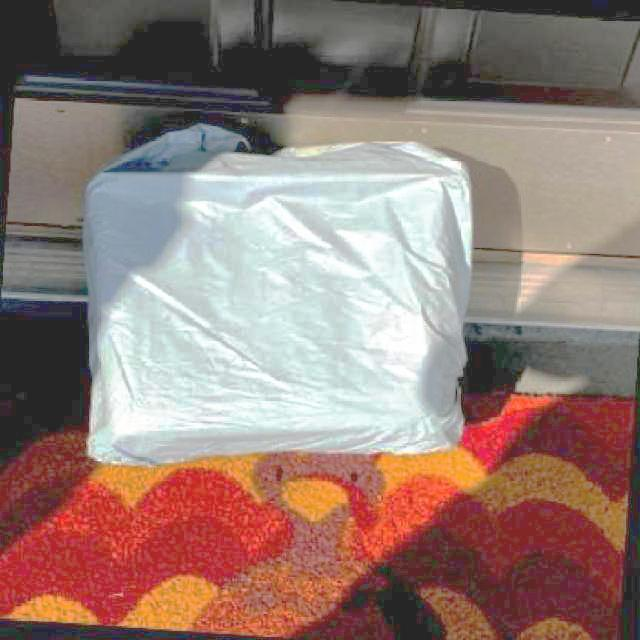Box: (66, 116, 482, 489)
